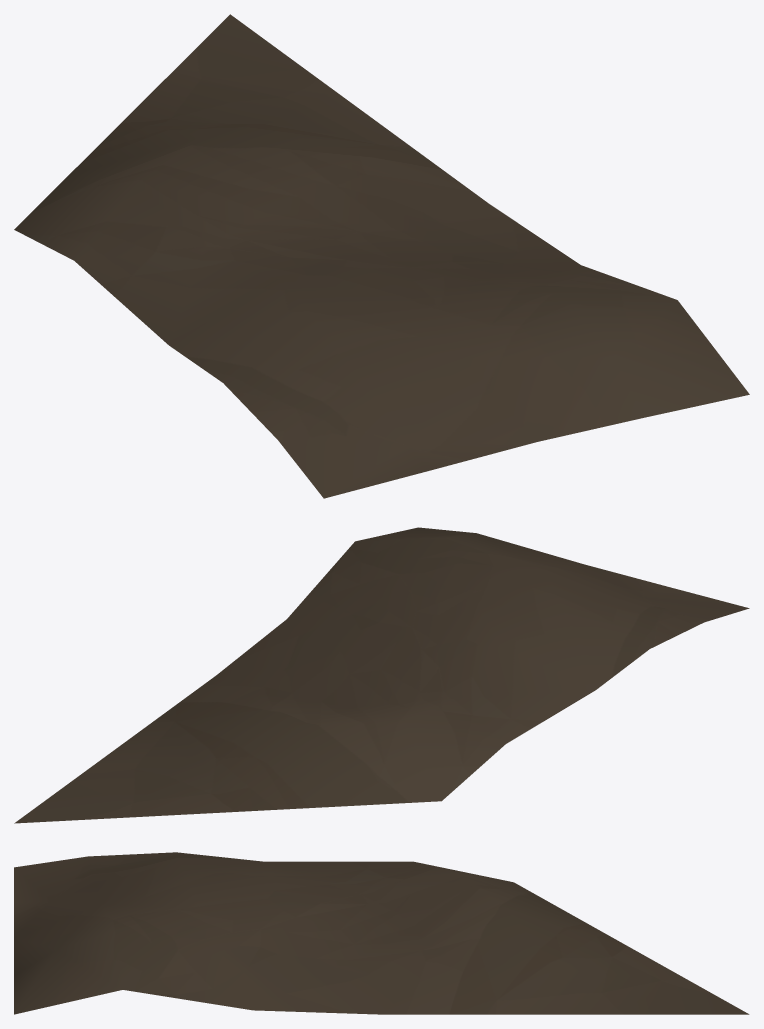
Rendered from bog_algae.gltf.
3 renders of one model, top to bottom at view 1: azimuth 30°, elevation 25°; view 2: azimuth 150°, elevation 25°; view 3: azimuth 270°, elevation 25°, orthographic. The views are drawn at different scales.
Visible parts, largest first — view 1: bog_algae; view 2: bog_algae; view 3: bog_algae.
Boxes of the visible parts, x1,y1,x2,y2 form: bog_algae: [14, 14, 749, 498]; bog_algae: [14, 527, 749, 823]; bog_algae: [14, 852, 749, 1014].
Size of the model in its own units: 2.41 by 0.3441 by 5.03.
Materials: 1 (1 with a texture image).
